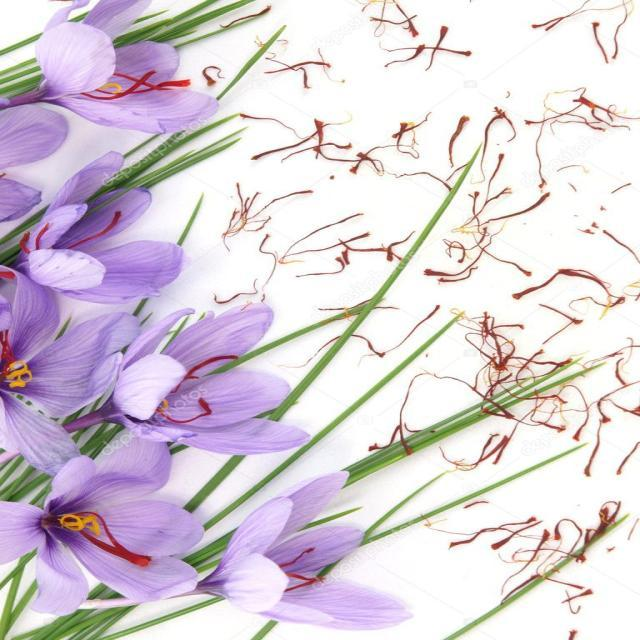Flower: (210, 464, 410, 617), (21, 438, 177, 618), (2, 261, 131, 444), (169, 320, 300, 468)
stigma: (73, 61, 192, 110), (66, 207, 129, 252), (94, 524, 150, 574), (182, 346, 244, 383), (163, 395, 212, 425), (282, 544, 320, 572)
